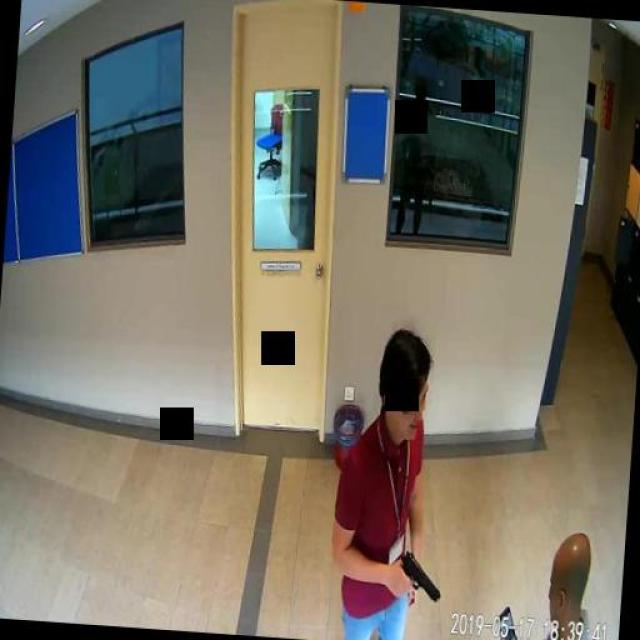gun: (395, 548, 441, 602)
